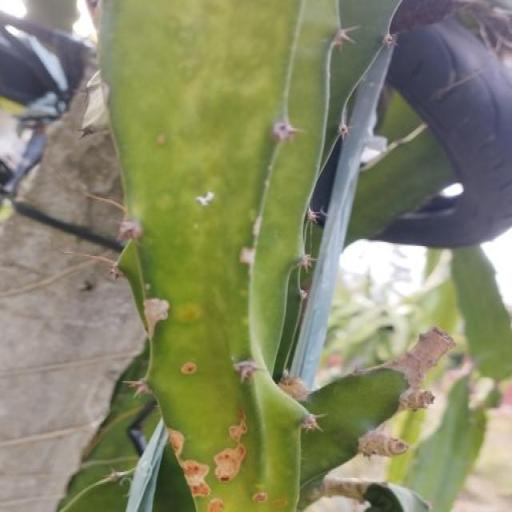stemcanker: (175, 357, 204, 380), (153, 130, 170, 152), (272, 492, 290, 512), (249, 490, 270, 506), (206, 496, 225, 512)
